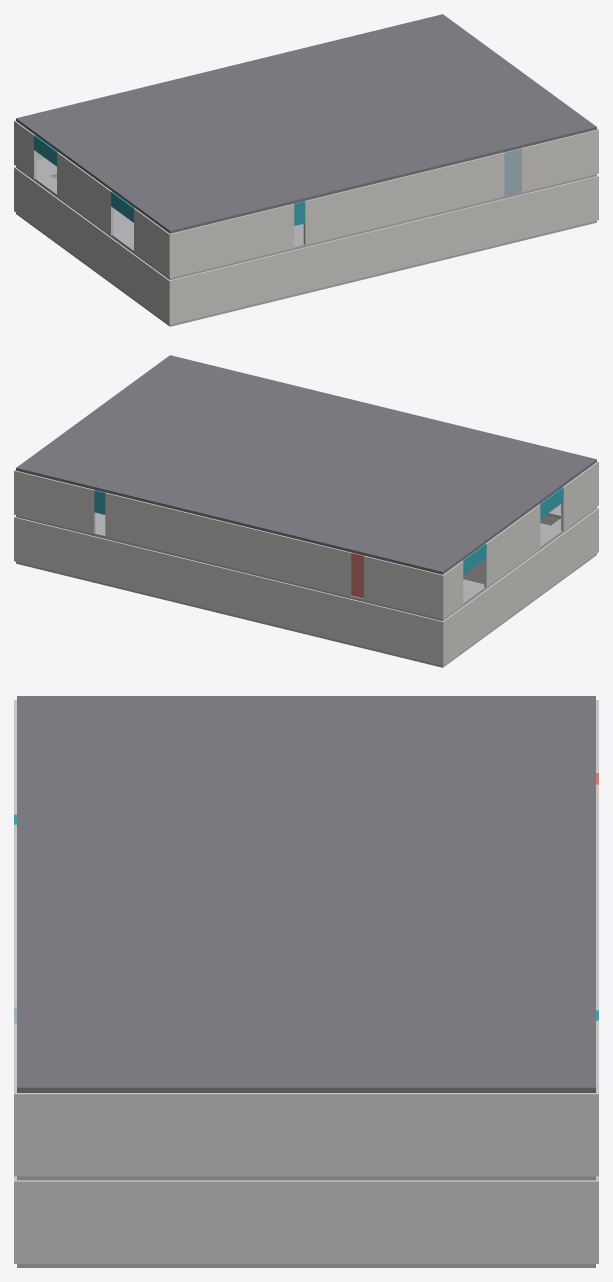
The model's file is freight_terminal_a03.glb.
3 views of the same model, one above another, from view 1: azimuth 30°, elevation 25°; view 2: azimuth 150°, elevation 25°; view 3: azimuth 270°, elevation 25° (orthographic). The views are drawn at different scales.
Parts seen in each view (by area): view 1: slab_1_t0_0, slab_1_t0_4, slab_1_t0_1, slab_1_t0_3, slab_1_t0_5, slab_1_t0_8, slab_1_t0_6, slab_1_t0_7, slab_1_t0_9, slab_1_t0_2, slab_1_t1_0, slab_1_t4_0 (+120 smaller); view 2: slab_1_t5_0, slab_1_t5_4, slab_1_t5_1, slab_1_t5_3, slab_1_t5_5, slab_1_t5_8, slab_1_t5_6, slab_1_t5_7, slab_1_t5_9, slab_1_t5_2, slab_1_t1_0, slab_1_t4_0 (+117 smaller); view 3: slab_1_t1_9, slab_1_t2_9, slab_1_t4_9, slab_1_t0_9, slab_1_t3_9, slab_1_t5_9, slab_1_t0_2, slab_1_t0_8, slab_1_t1_0, slab_1_t1_1, slab_1_t1_2, slab_1_t1_3 (+78 smaller).
Boxes of the visible parts, bbox=[...] form: slab_1_t0_0: bbox=[144, 202, 212, 233]; slab_1_t0_4: bbox=[315, 160, 383, 191]; slab_1_t0_1: bbox=[187, 191, 255, 223]; slab_1_t0_3: bbox=[273, 170, 340, 202]; slab_1_t0_5: bbox=[358, 149, 426, 181]; slab_1_t0_8: bbox=[486, 118, 554, 150]; slab_1_t0_6: bbox=[401, 139, 468, 170]; slab_1_t0_7: bbox=[443, 129, 511, 160]; slab_1_t0_9: bbox=[529, 108, 596, 139]; slab_1_t0_2: bbox=[230, 181, 297, 212]; slab_1_t1_0: bbox=[118, 183, 186, 214]; slab_1_t4_0: bbox=[41, 126, 109, 157]; slab_1_t5_0: bbox=[400, 543, 468, 574]; slab_1_t5_4: bbox=[229, 501, 297, 532]; slab_1_t5_1: bbox=[357, 532, 425, 564]; slab_1_t5_3: bbox=[272, 511, 339, 543]; slab_1_t5_5: bbox=[186, 490, 254, 522]; slab_1_t5_8: bbox=[58, 459, 126, 491]; slab_1_t5_6: bbox=[144, 480, 211, 511]; slab_1_t5_7: bbox=[101, 470, 169, 501]; slab_1_t5_9: bbox=[16, 449, 83, 480]; slab_1_t5_2: bbox=[315, 522, 382, 553]; slab_1_t1_0: bbox=[503, 467, 571, 498]; slab_1_t4_0: bbox=[426, 524, 494, 555]; slab_1_t1_9: bbox=[113, 1048, 209, 1092]; slab_1_t2_9: bbox=[210, 1048, 306, 1092]; slab_1_t4_9: bbox=[403, 1048, 499, 1092]; slab_1_t0_9: bbox=[17, 1048, 113, 1092]; slab_1_t3_9: bbox=[306, 1048, 402, 1092]; slab_1_t5_9: bbox=[499, 1048, 595, 1092]; slab_1_t0_2: bbox=[17, 774, 113, 813]; slab_1_t0_8: bbox=[17, 1009, 113, 1048]; slab_1_t1_0: bbox=[113, 696, 209, 735]; slab_1_t1_1: bbox=[113, 735, 209, 774]; slab_1_t1_2: bbox=[113, 774, 209, 813]; slab_1_t1_3: bbox=[113, 813, 209, 852].
Size of what is drawn, in the model's own units: 48.3 by 10.3 by 30.3.
